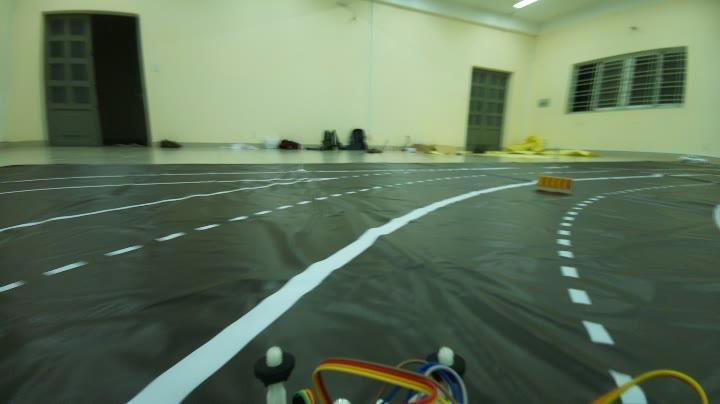roadblock: (534, 173, 580, 195)
